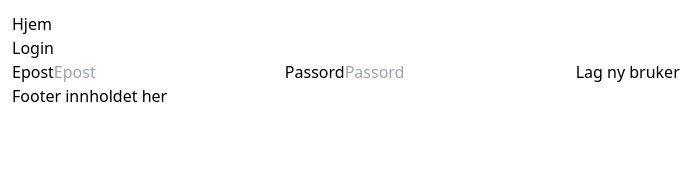
Test: Login Page › When submitting the form › should show success when fields are valid in client
This screenshot has width=698, height=172.
Type "test@test.no" into the field labelled "Epost". click: (169, 72)
box: [54,60,285,84]
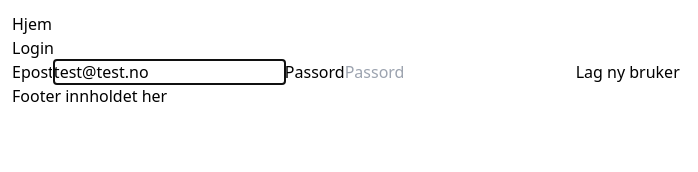
Type "123456" into the password field labelled "Passord". click: (460, 72)
box: [345,60,576,84]
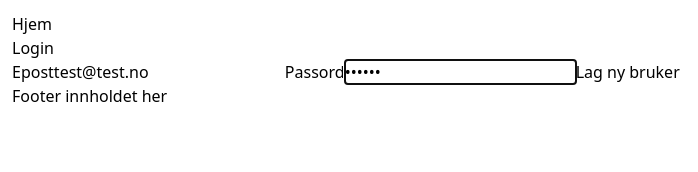
Click the button. click: (628, 72)
box: [576,60,680,84]
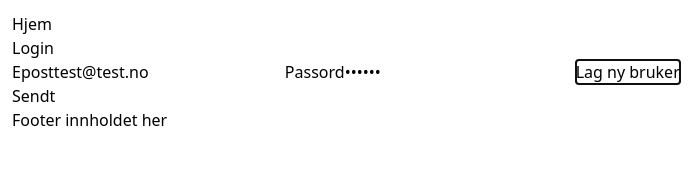
Check: the text "Sendt" is shown, box [12,85,55,107]
